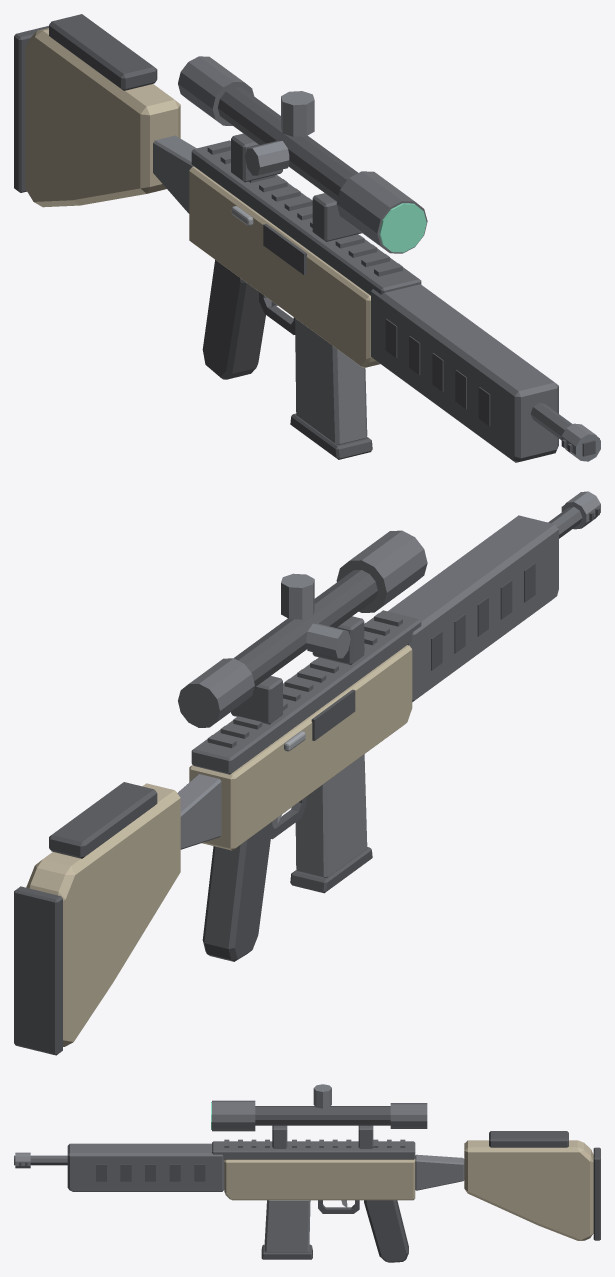
File: weapon_vesper_dmr.fbx
The picture shows the model from 3 angles, top to bottom: view 1: azimuth 30°, elevation 25°; view 2: azimuth 150°, elevation 25°; view 3: azimuth 270°, elevation 25°; orthographic projection. The views are drawn at different scales.
Parts seen in each view (by area): view 1: weapon_vesper_dmr; view 2: weapon_vesper_dmr; view 3: weapon_vesper_dmr.
Boxes of the visible parts, x1,y1,x2,y2 form: weapon_vesper_dmr: (14, 14, 600, 462); weapon_vesper_dmr: (14, 491, 600, 1055); weapon_vesper_dmr: (14, 1084, 600, 1262).
Bounding box in the file's own units: 0.07 × 0.3077 × 0.954.
